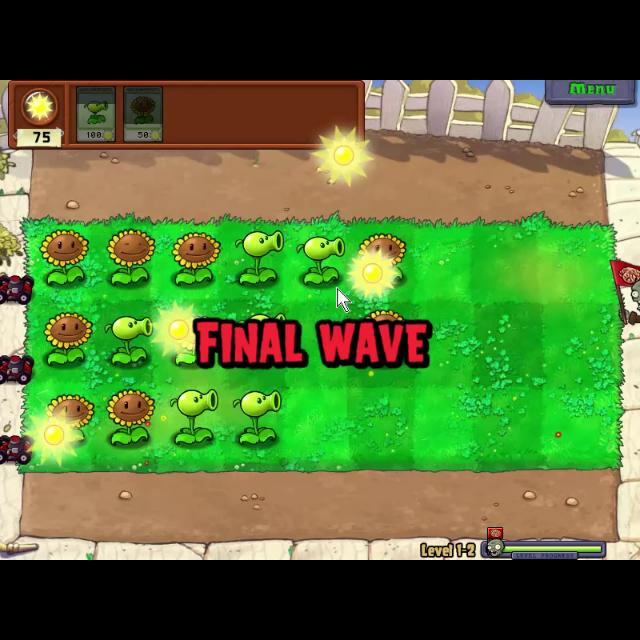Flag Zombie: (606, 253, 640, 330)
Garden: (15, 212, 630, 476)
Menu Button: (542, 80, 638, 106)
Mower: (0, 270, 38, 310), (0, 428, 32, 469), (0, 352, 34, 386)
Peashooter: (75, 85, 117, 145)
Peashooter Seed: (230, 226, 284, 288), (170, 387, 217, 449), (102, 313, 154, 369), (234, 396, 286, 448), (296, 231, 342, 289), (232, 309, 288, 327)
Seed Panel: (6, 80, 368, 156)
Sun: (312, 126, 372, 182), (26, 409, 82, 468), (150, 304, 206, 358), (347, 249, 397, 301)
Sunflower: (121, 82, 163, 144)
Sunflower Seed: (40, 310, 96, 372), (102, 388, 156, 452), (37, 388, 95, 446), (36, 230, 92, 288), (102, 228, 154, 288), (172, 228, 220, 286), (361, 231, 409, 267), (355, 306, 407, 328), (171, 339, 197, 365)
